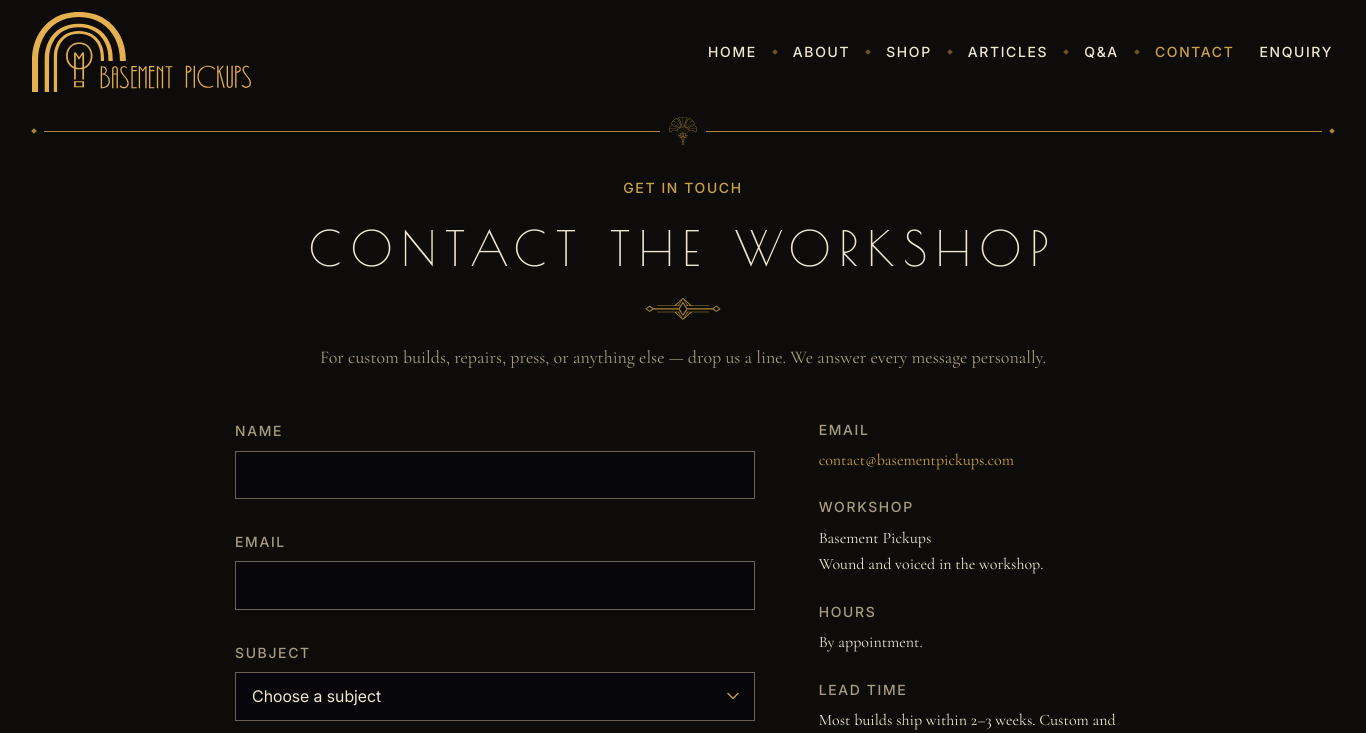
Test: ContactPage › shows a form-level server message when no field is flagged
Type "Ada" into the field with test id "contact-form-name" at (495, 475), box [235,450,755,499]
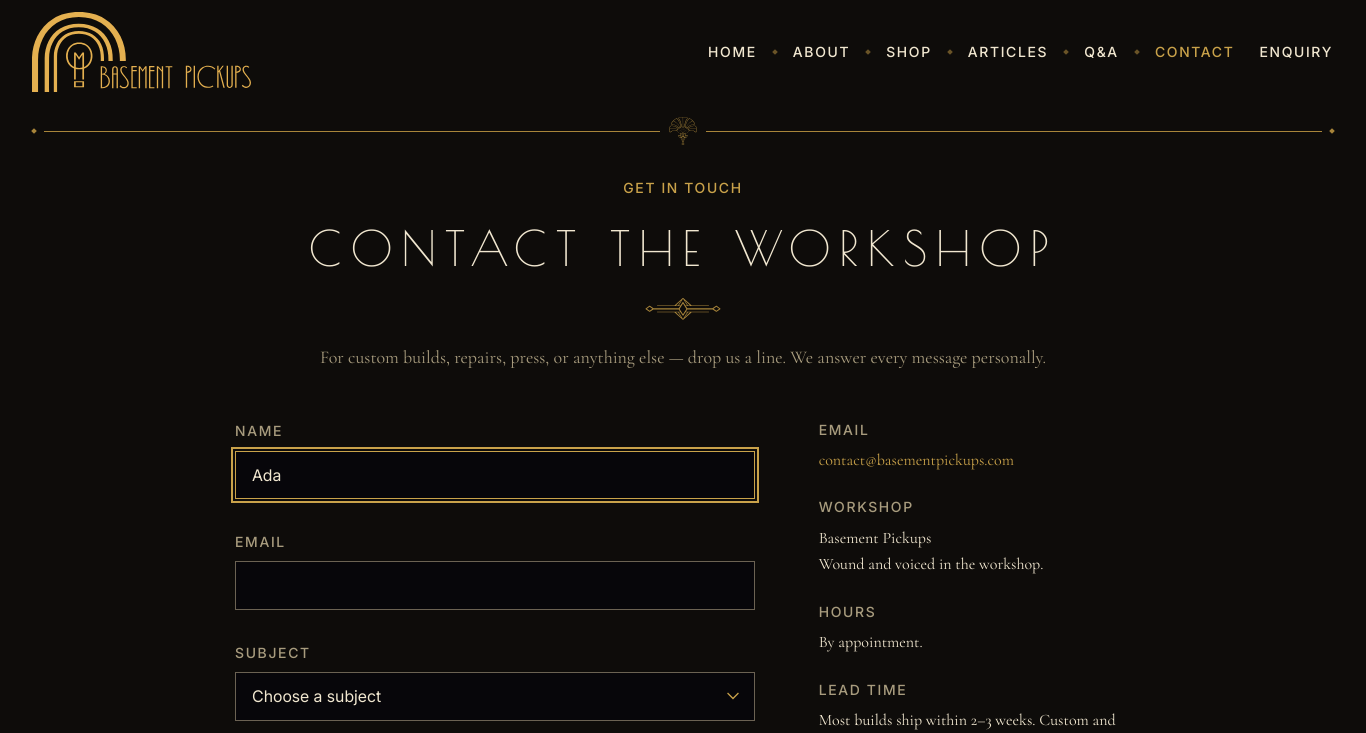
Type "ada@example.com" into the field with test id "contact-form-email" at (495, 586), box [235,561,755,610]
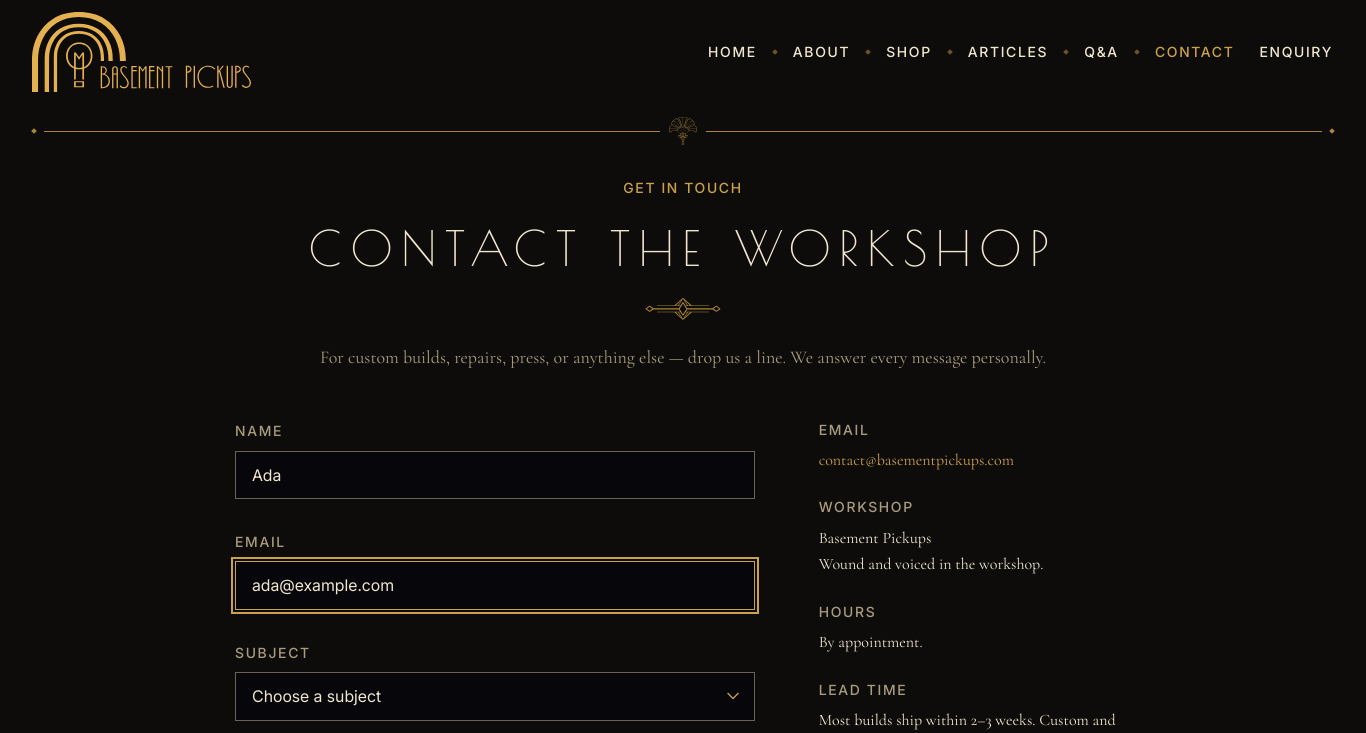
Select "General inquiry" in the dropdown with test id "contact-form-subject-select" at (495, 696), box [235,672,755,720]
(page scrolled)
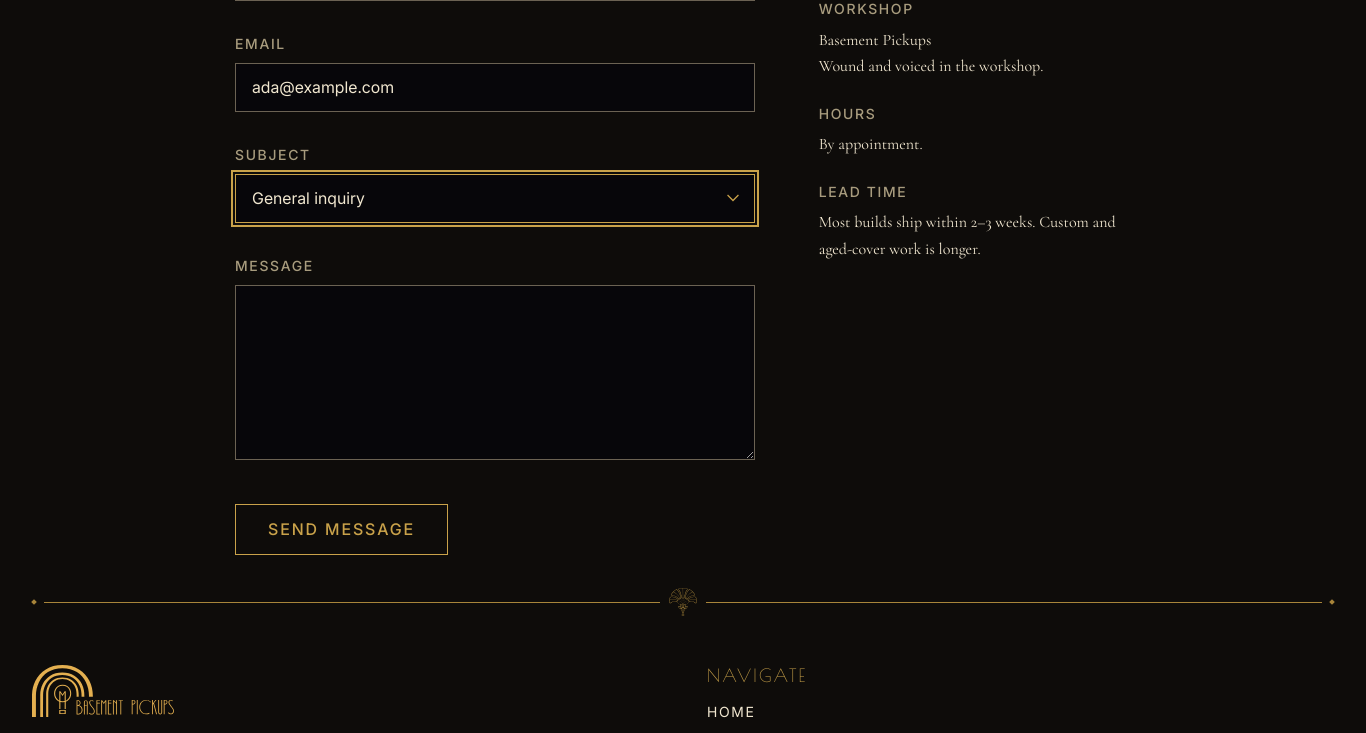
Type "Hello" into the text box with test id "contact-form-message" at (495, 372), box [235,285,755,460]
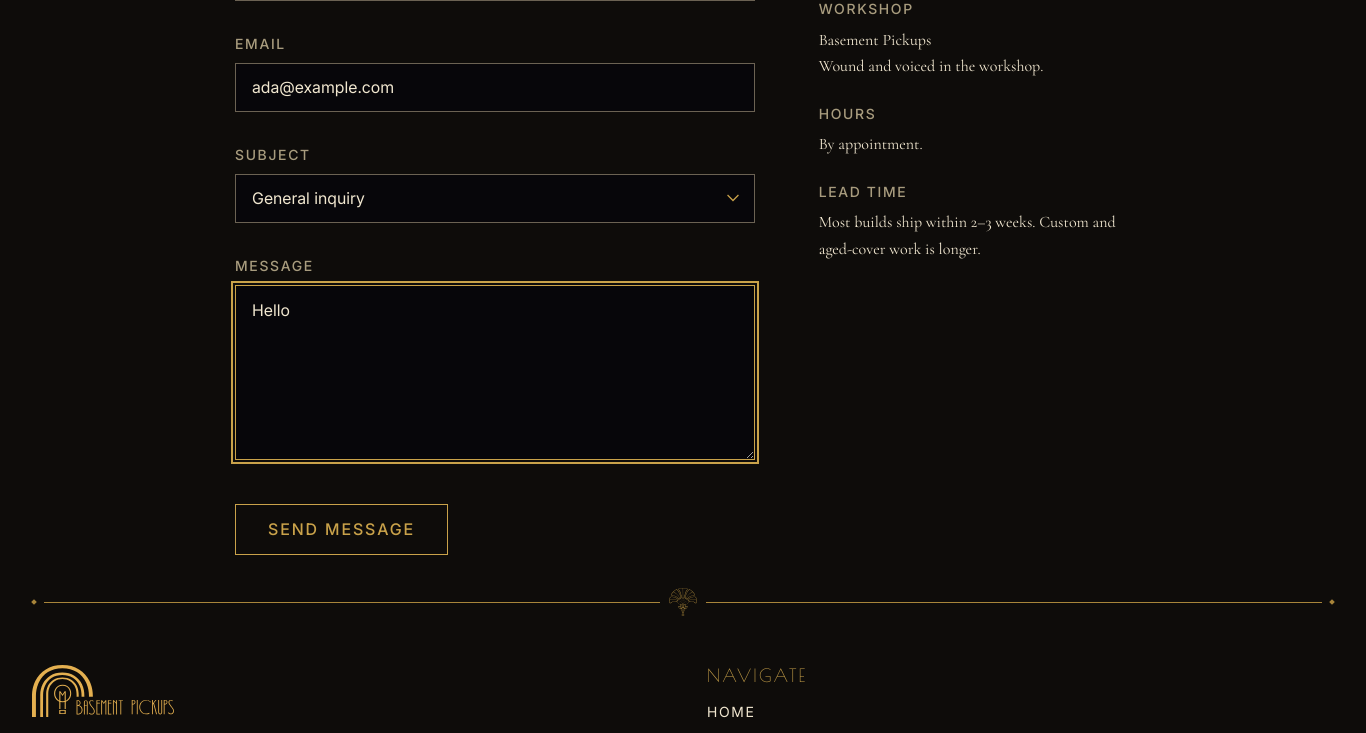
Click the button with test id "contact-form-submit" at (342, 530), box [235,504,448,555]
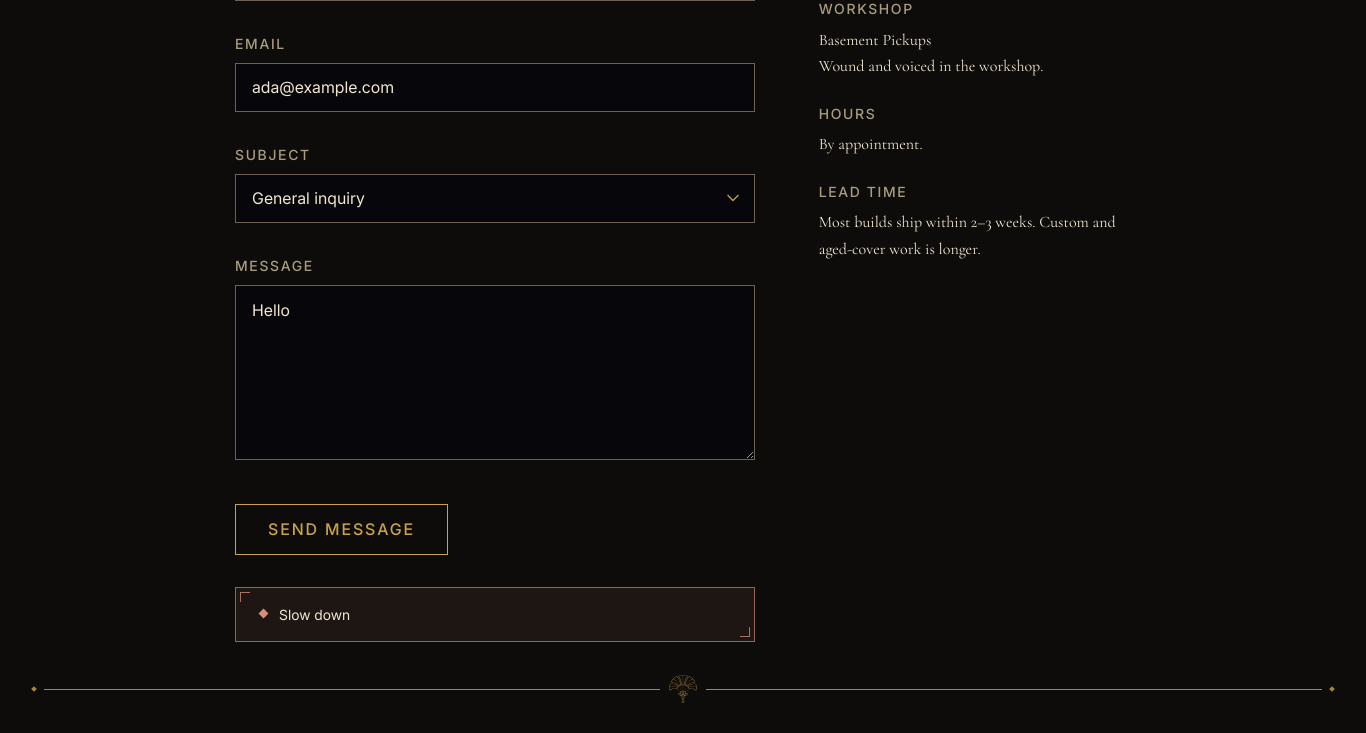
Result: the element with test id "contact-form-error" reads "Slow down" at [279,606,350,623]
